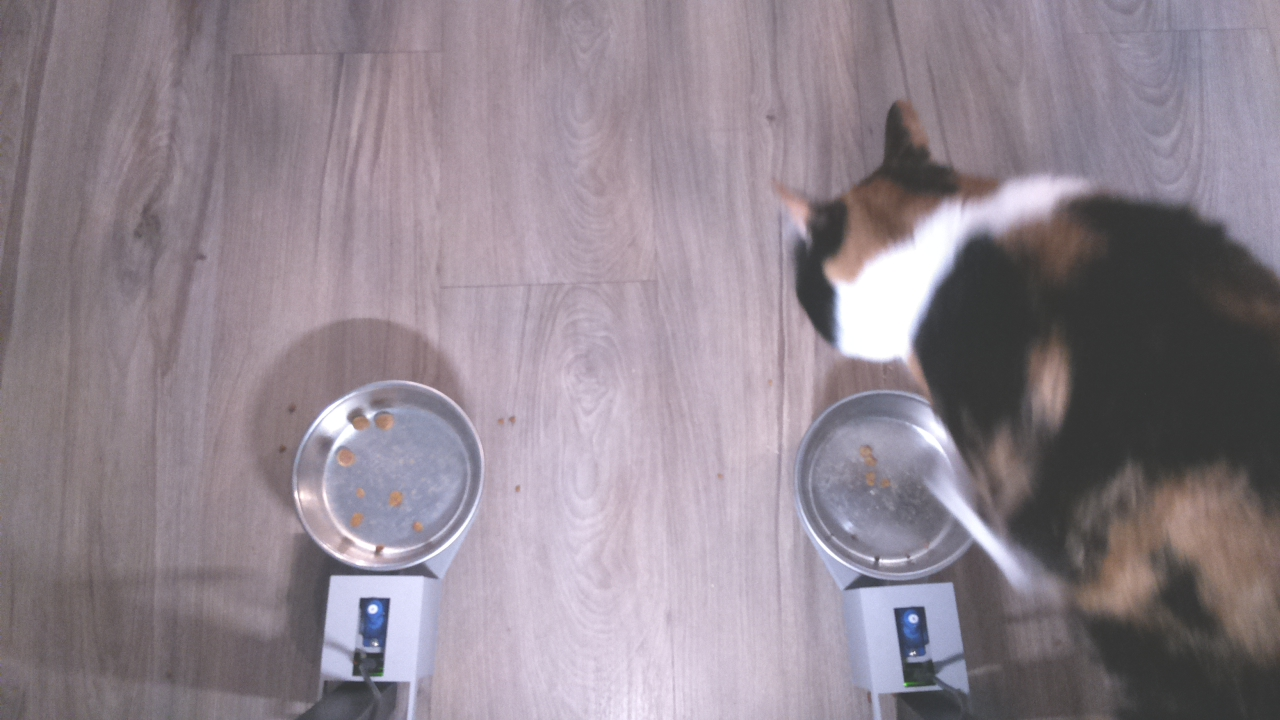bella: (763, 96, 1103, 379)
open_bowl: (287, 376, 492, 575), (790, 387, 996, 584)
